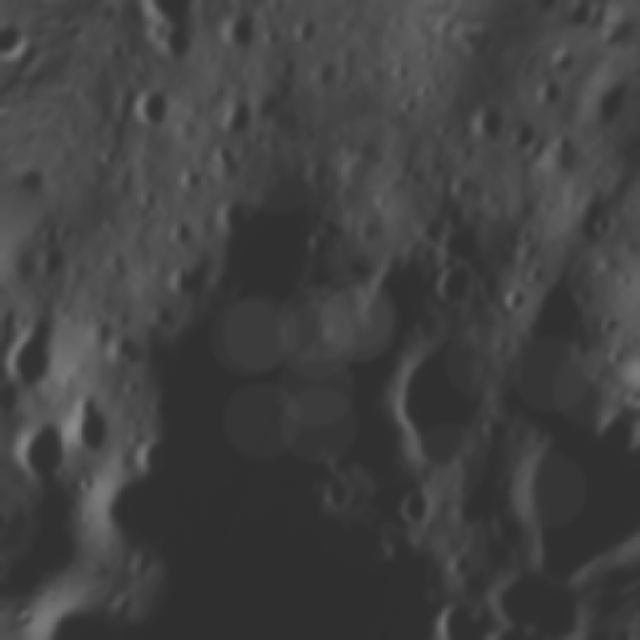crater: (362, 312, 524, 483), (101, 0, 234, 74), (0, 303, 75, 394), (2, 413, 81, 484), (211, 84, 267, 147), (65, 394, 122, 452), (213, 0, 269, 58), (458, 91, 514, 146), (388, 477, 444, 532), (208, 184, 263, 239), (122, 80, 180, 131), (429, 249, 480, 303), (105, 328, 153, 377), (424, 597, 478, 640), (160, 202, 208, 250), (288, 7, 334, 53), (528, 72, 572, 116), (162, 252, 204, 298), (295, 153, 340, 195), (454, 484, 495, 530), (314, 477, 361, 517), (351, 201, 391, 248), (170, 154, 212, 198), (33, 237, 75, 278), (122, 543, 161, 585), (318, 444, 362, 479), (443, 166, 482, 205), (505, 117, 543, 157), (466, 617, 528, 640), (588, 206, 624, 242), (498, 280, 531, 318), (299, 221, 333, 257), (310, 54, 345, 88), (0, 372, 26, 416), (95, 140, 127, 172), (412, 38, 445, 68), (384, 51, 414, 84), (522, 256, 552, 289), (288, 268, 318, 301), (24, 166, 50, 203), (446, 548, 476, 580), (594, 310, 624, 338), (428, 115, 458, 143), (611, 263, 638, 292), (514, 220, 541, 248), (413, 75, 439, 102), (0, 450, 14, 495), (603, 344, 628, 368), (0, 499, 18, 531), (527, 175, 551, 197), (632, 119, 640, 184), (631, 200, 640, 255), (0, 274, 12, 310), (631, 349, 640, 382)
